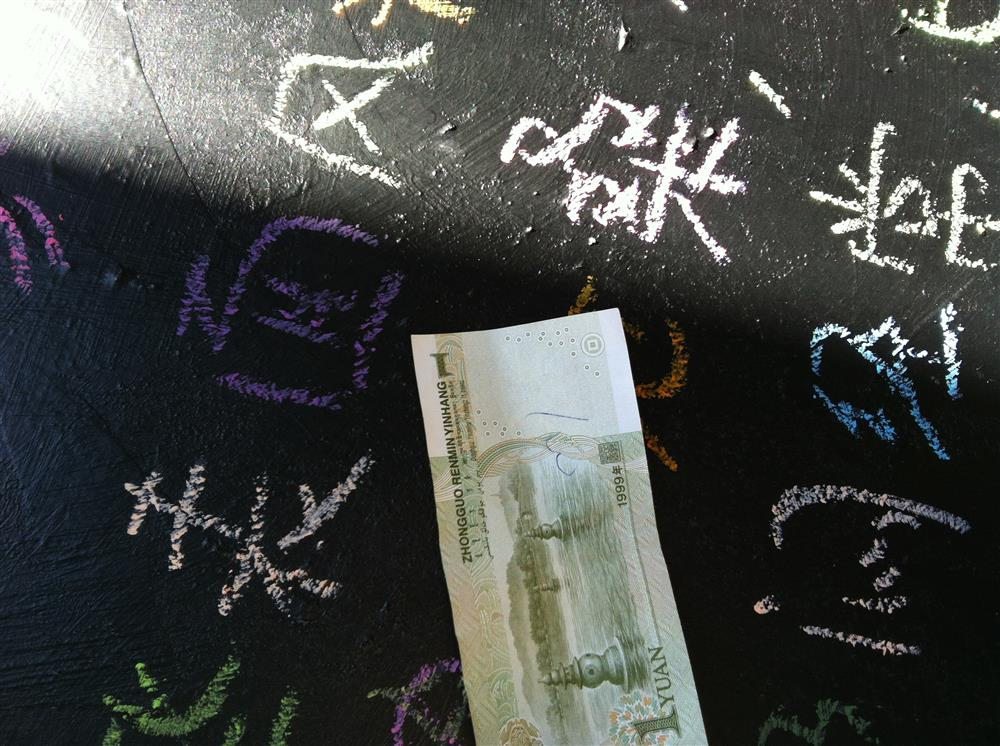1yuan: (411, 310, 711, 743)
